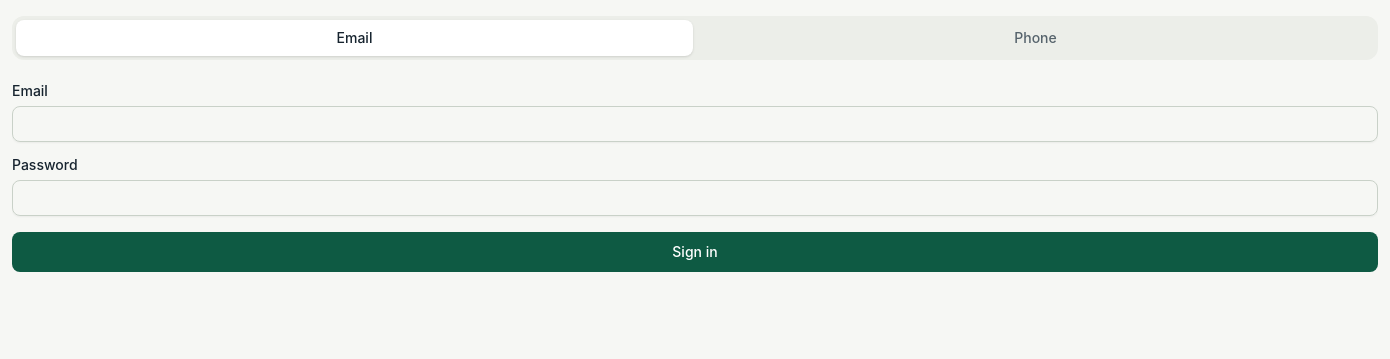
Test: SignInForm: email › explains a wrong password
Type "admin@shifa.test" into the field labelled "Email" at (695, 124), box top-left (12, 106), bottom-right (1378, 142)
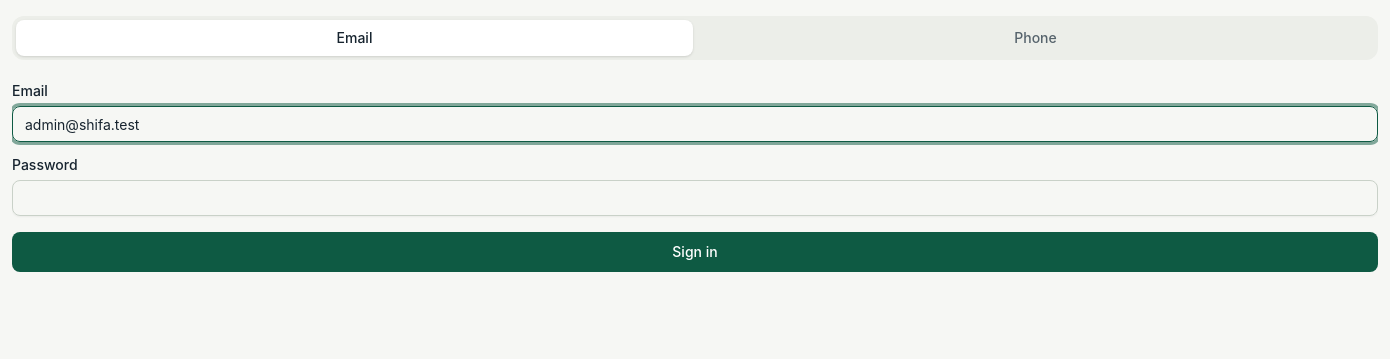
Type "wrong" into the password field labelled "Password" at (695, 198), box top-left (12, 180), bottom-right (1378, 216)
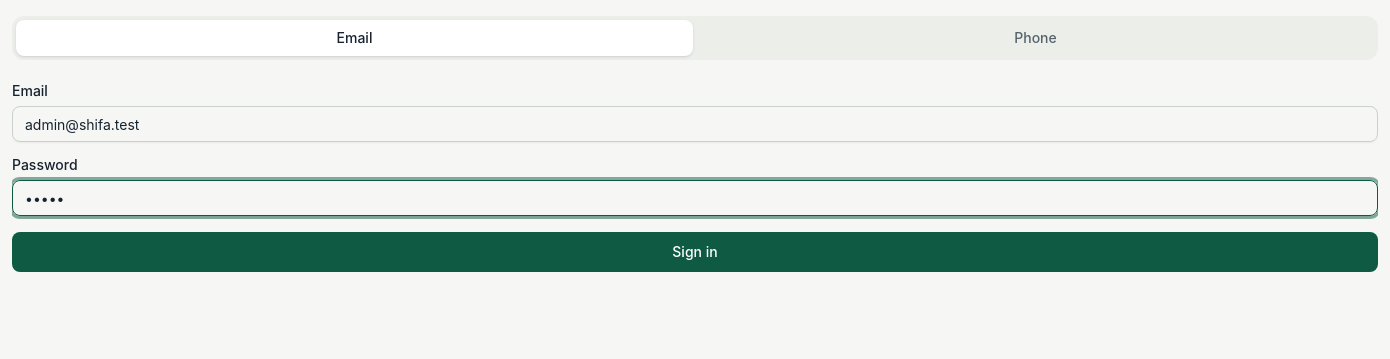
Click the button "Sign in" at (695, 252), box top-left (12, 232), bottom-right (1378, 272)
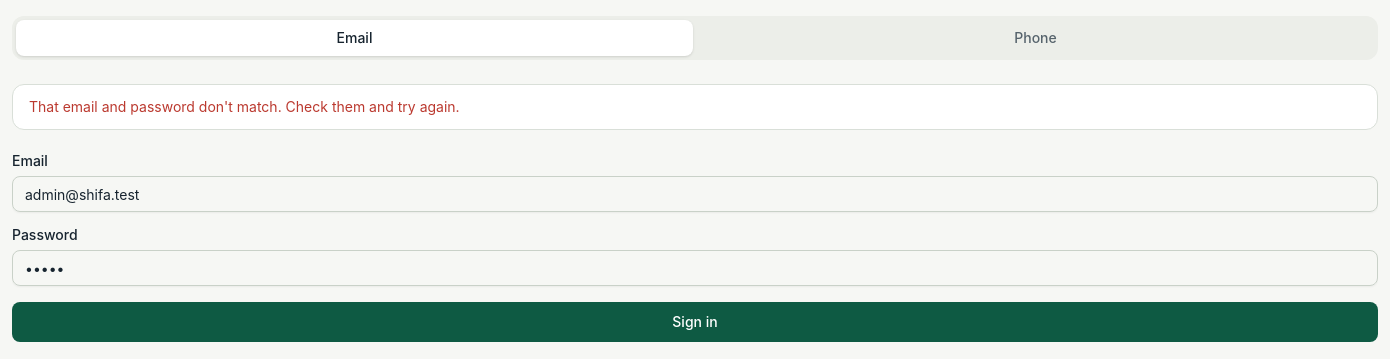
Now the message shows "don't match", box top-left (29, 98), bottom-right (460, 115)
